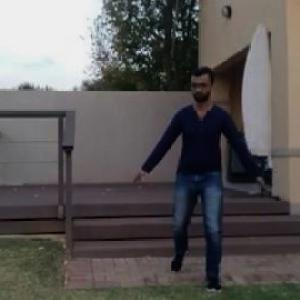land: (132, 51, 284, 292)
